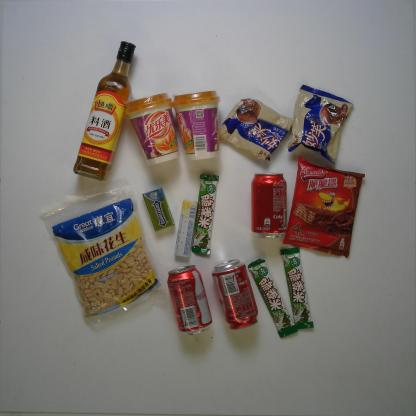Candy: (172, 199, 199, 259)
Chocolate: (248, 257, 299, 341), (278, 246, 315, 331), (190, 173, 220, 256)
Dessert: (281, 155, 366, 259), (287, 83, 356, 165), (217, 96, 296, 164)
Dried Fruit: (38, 174, 168, 328)
Drink: (211, 258, 259, 331), (166, 264, 214, 336), (250, 172, 288, 240)
Gum: (141, 186, 176, 234)
Instant Drink: (124, 91, 181, 168), (171, 90, 222, 162)
Seasoner: (70, 38, 138, 184)
